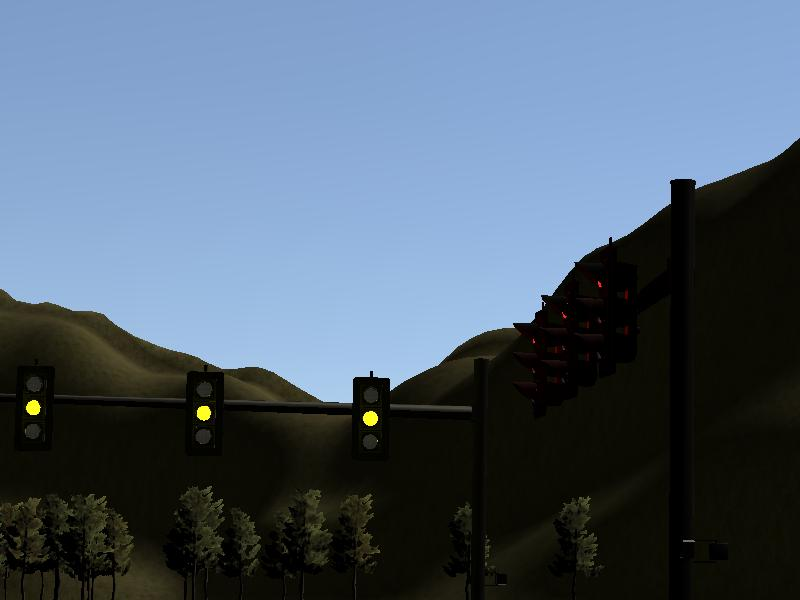not_red: (185, 369, 221, 458), (354, 376, 390, 463), (18, 369, 46, 446)
